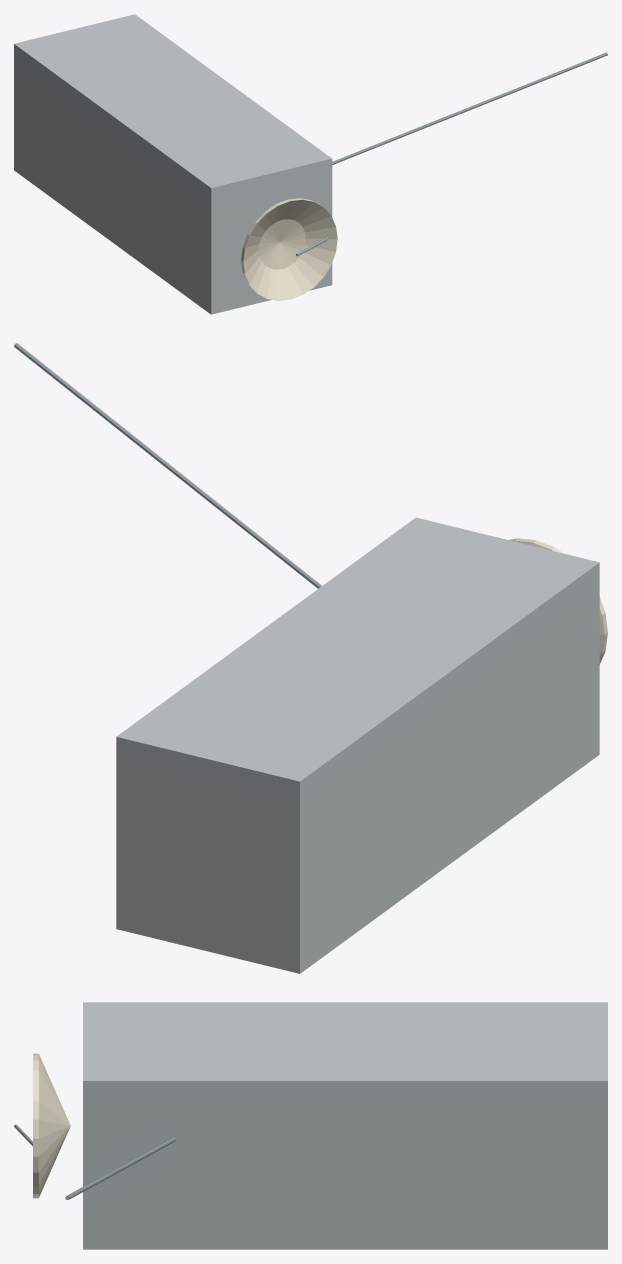
Rendered from ref-smap-40376.glb.
The picture shows the model from 3 angles, top to bottom: view 1: azimuth 30°, elevation 25°; view 2: azimuth 150°, elevation 25°; view 3: azimuth 270°, elevation 25°; orthographic projection. The views are drawn at different scales.
Visible parts, largest first — view 1: Spacecraft body, Reflector dish, Antenna boom; view 2: Spacecraft body, Antenna boom; view 3: Spacecraft body, Reflector dish, Antenna boom.
Boxes of the visible parts, bbox=[...] form: Spacecraft body: bbox=[14, 14, 332, 314]; Reflector dish: bbox=[241, 198, 337, 300]; Antenna boom: bbox=[332, 52, 607, 164]; Spacecraft body: bbox=[116, 517, 599, 973]; Antenna boom: bbox=[14, 343, 321, 588]; Spacecraft body: bbox=[83, 1002, 607, 1249]; Reflector dish: bbox=[33, 1053, 70, 1198]; Antenna boom: bbox=[65, 1137, 176, 1199].
Bounding box in the file's own units: 5.49 × 2.3 × 5.43.
